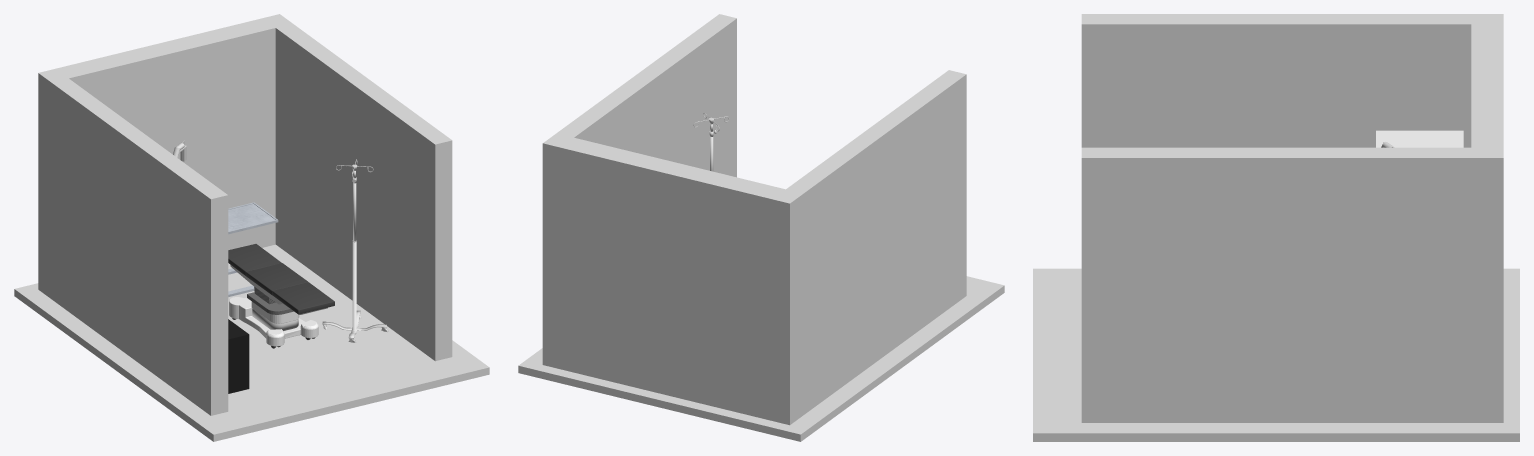
File: immunology.glb
3 views of the same model, side by side, from view 1: azimuth 30°, elevation 25°; view 2: azimuth 150°, elevation 25°; view 3: azimuth 270°, elevation 25° (orthographic). The views are drawn at different scales.
Parts seen in each view (by area): view 1: 内墙, 地面, 床, 柜子1, 推车, 架子; view 2: 内墙, 地面; view 3: 内墙, 地面, 药柜.
Boxes of the visible parts, x1,y1,x2,y2 form: 内墙: (38,14,452,415); 地面: (14,244,489,441); 床: (228,244,334,348); 柜子1: (228,319,249,393); 推车: (228,202,278,296); 架子: (322,159,388,342); 内墙: (542,14,966,425); 地面: (518,276,1004,441); 内墙: (1081,14,1503,422); 地面: (1033,268,1519,441); 药柜: (1376,130,1463,147).
Bounding box in the file's own units: 4 × 3.1 × 5.
Materials: 27 (6 with a texture image).
